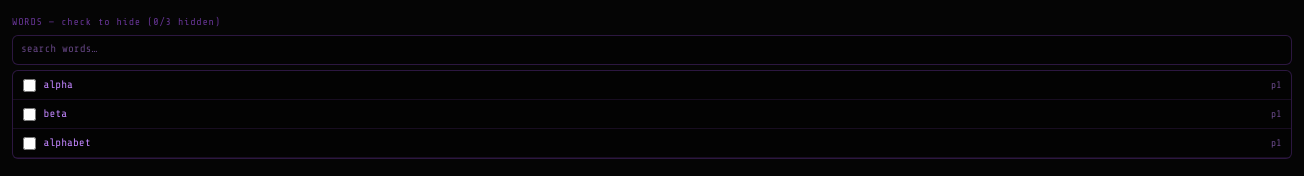
Scenario: <WordSelect> › filters by word text
Type "alpha" into the search field at (652, 50), box top-left (12, 35), bottom-right (1292, 65)
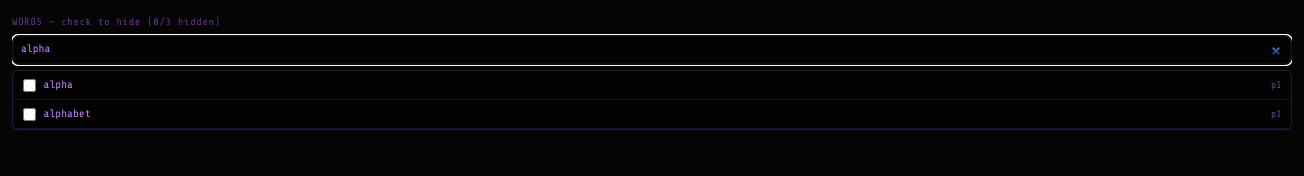
Expected: the text "alpha" is shown, top-left (44, 78), bottom-right (73, 91)
Result: the text "beta" is gone
